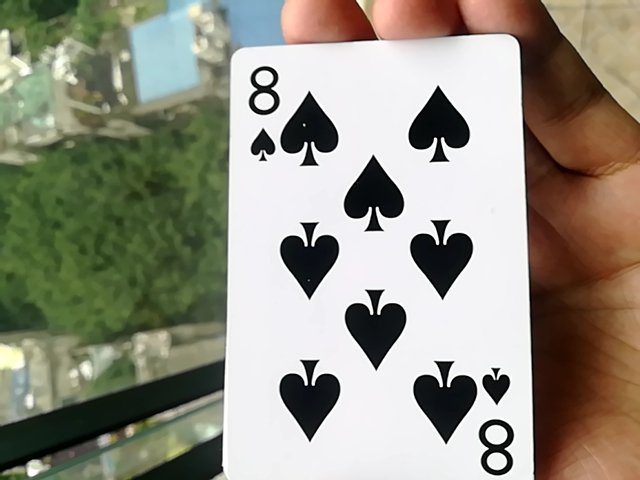ht 8: (206, 18, 527, 478)
